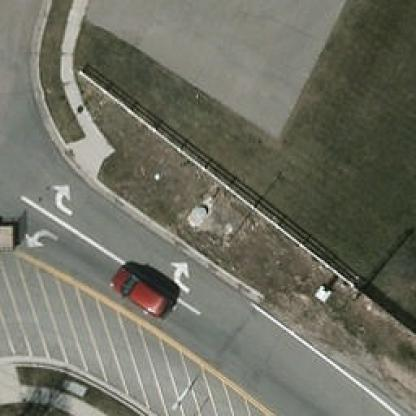car: (106, 265, 178, 322)
